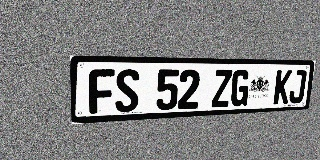2: (178, 69, 200, 109)
5: (156, 69, 179, 110)
F: (89, 69, 114, 114)
G: (230, 70, 251, 107)
J: (288, 70, 307, 104)
K: (273, 70, 292, 104)
S: (115, 69, 139, 113)
Z: (211, 70, 233, 108)
